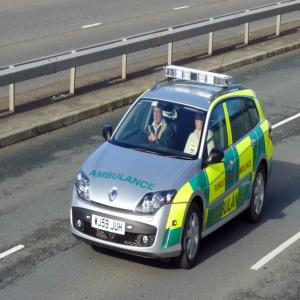Vehicle-registration-plate: (93, 218, 126, 236)
